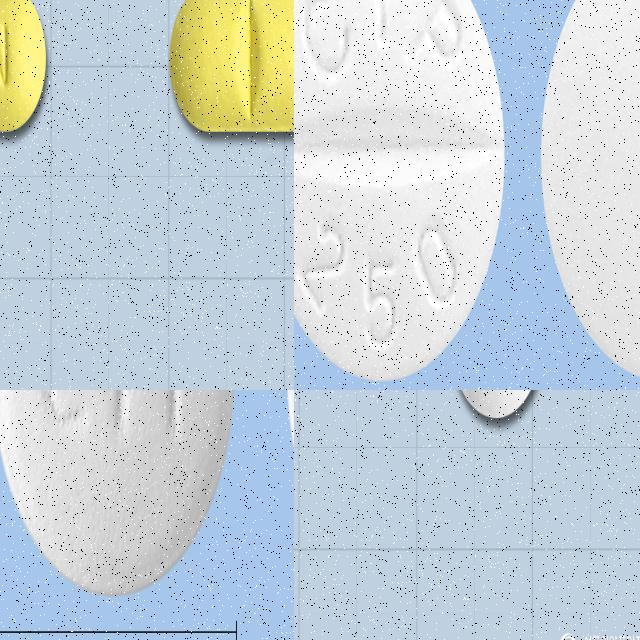Ciprocell: (0, 390, 239, 605)
Clarith: (168, 0, 294, 135), (0, 0, 48, 138)
Cypro: (294, 0, 505, 382), (539, 0, 640, 382)
